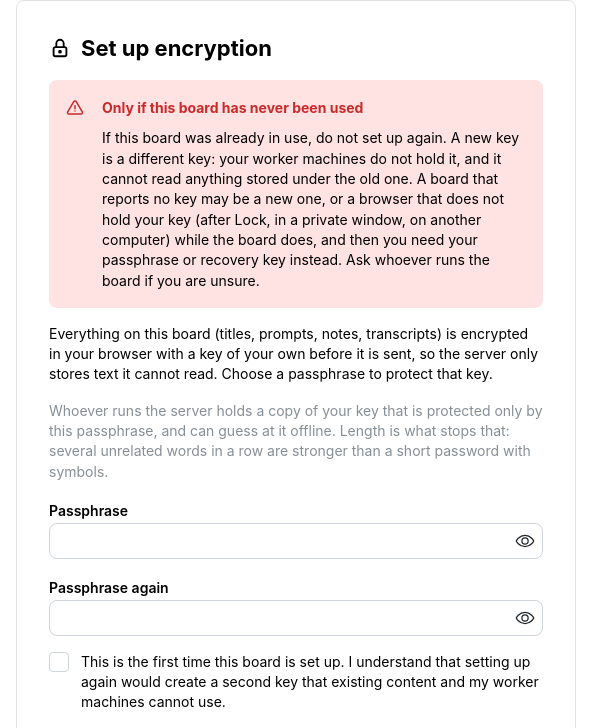
SetupScreen › refuses a short passphrase and one typed twice differently
Type "too short" into the password field labelled "Passphrase" at [296, 541], box [50,524,542,558]
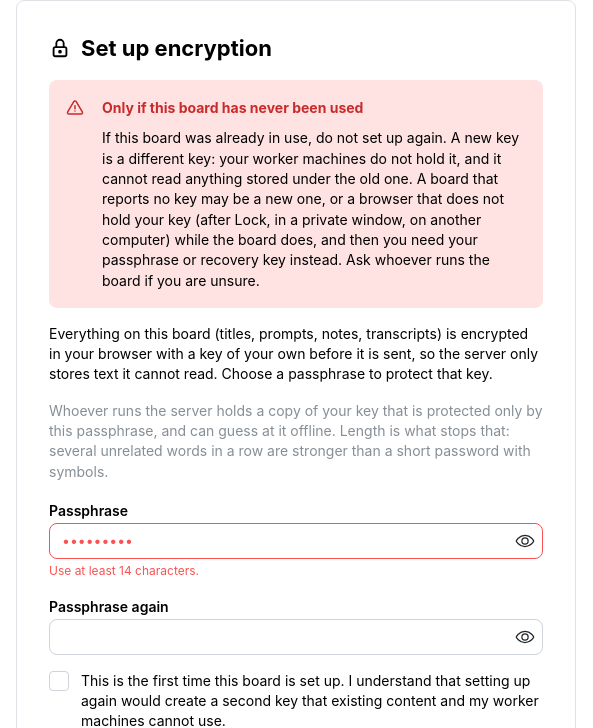
Result: the text "Use at least 14 characters." is shown at [49,563,199,578]
Type "correct horse battery staple" into the password field labelled "Passphrase" at [296, 541], box [50,524,542,558]
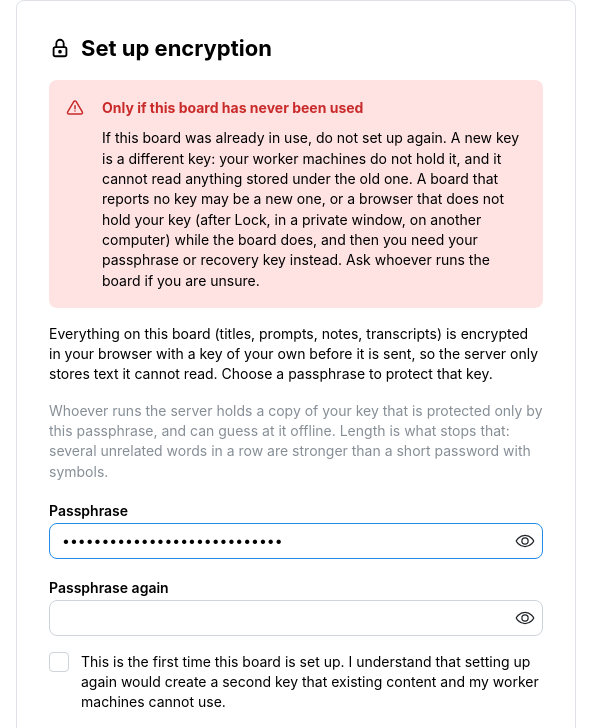
Type "something else entirely" into the password field labelled "Passphrase again" at [296, 618], box [50,600,542,634]
(page scrolled)
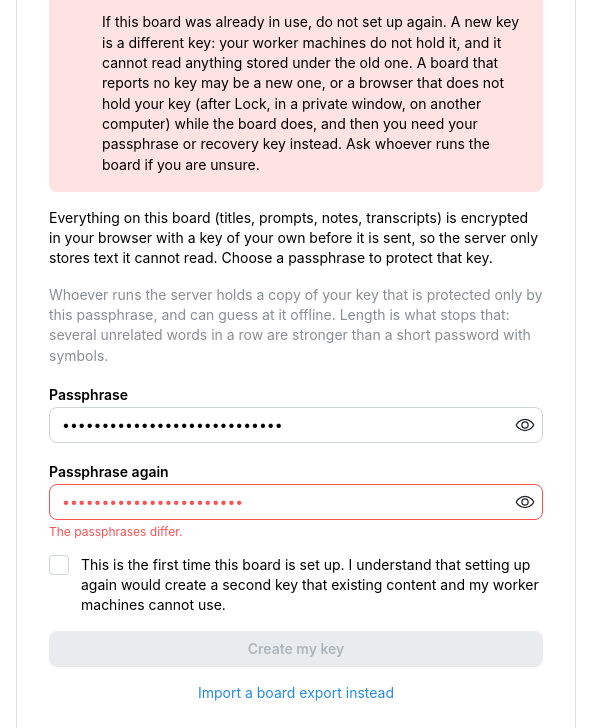
Expected: the button "Create my key" is disabled, [49,631,543,667]
Result: the text "The passphrases differ." is shown at [49,524,182,538]
